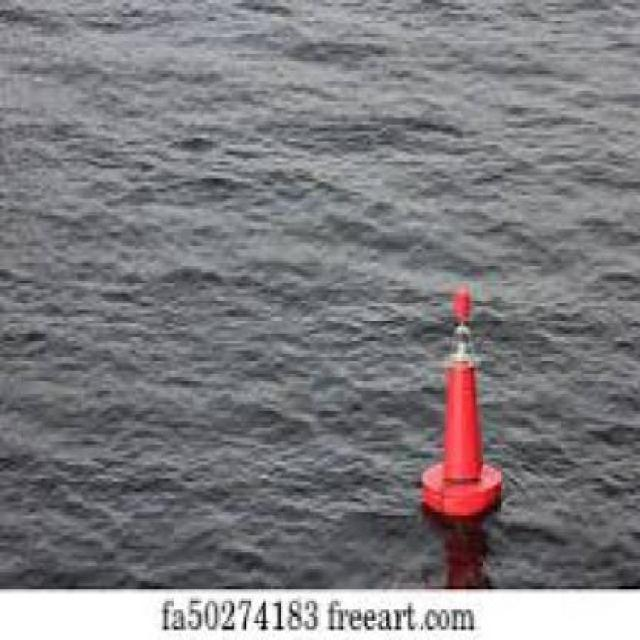buoy: (411, 277, 511, 550)
